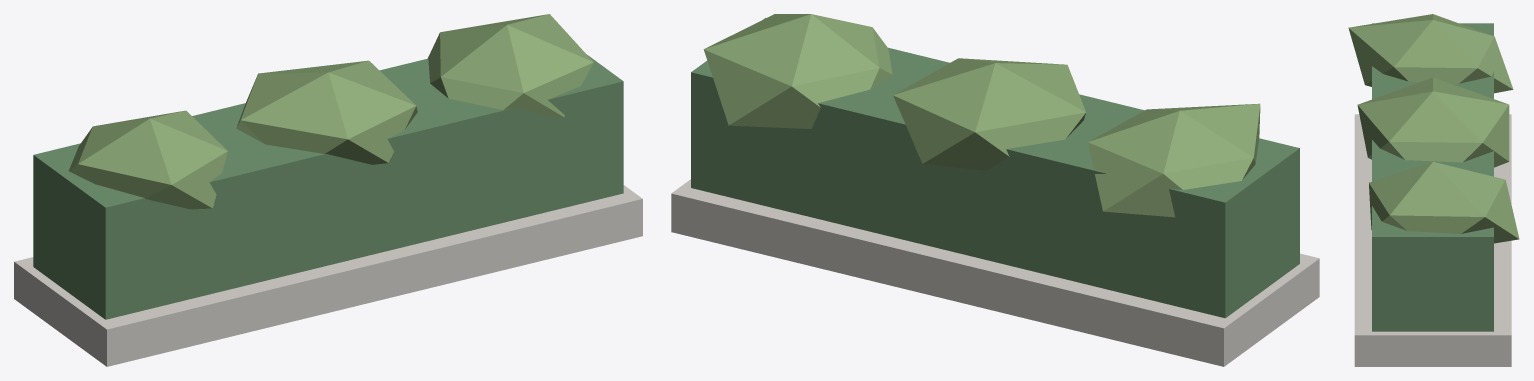
File: HK_Hedge.glb
The picture shows the model from 3 angles, left to right: view 1: azimuth 30°, elevation 25°; view 2: azimuth 150°, elevation 25°; view 3: azimuth 270°, elevation 25°; orthographic projection. The views are drawn at different scales.
Visible parts, largest first — view 1: HK_Hedge; view 2: HK_Hedge; view 3: HK_Hedge.
Part boxes in pixels (x1=…): HK_Hedge: x1=14, y1=14, x2=642, y2=366; HK_Hedge: x1=671, y1=14, x2=1319, y2=366; HK_Hedge: x1=1348, y1=14, x2=1519, y2=366.
Size of the model in its own units: 3 by 1.07 by 0.9814.
